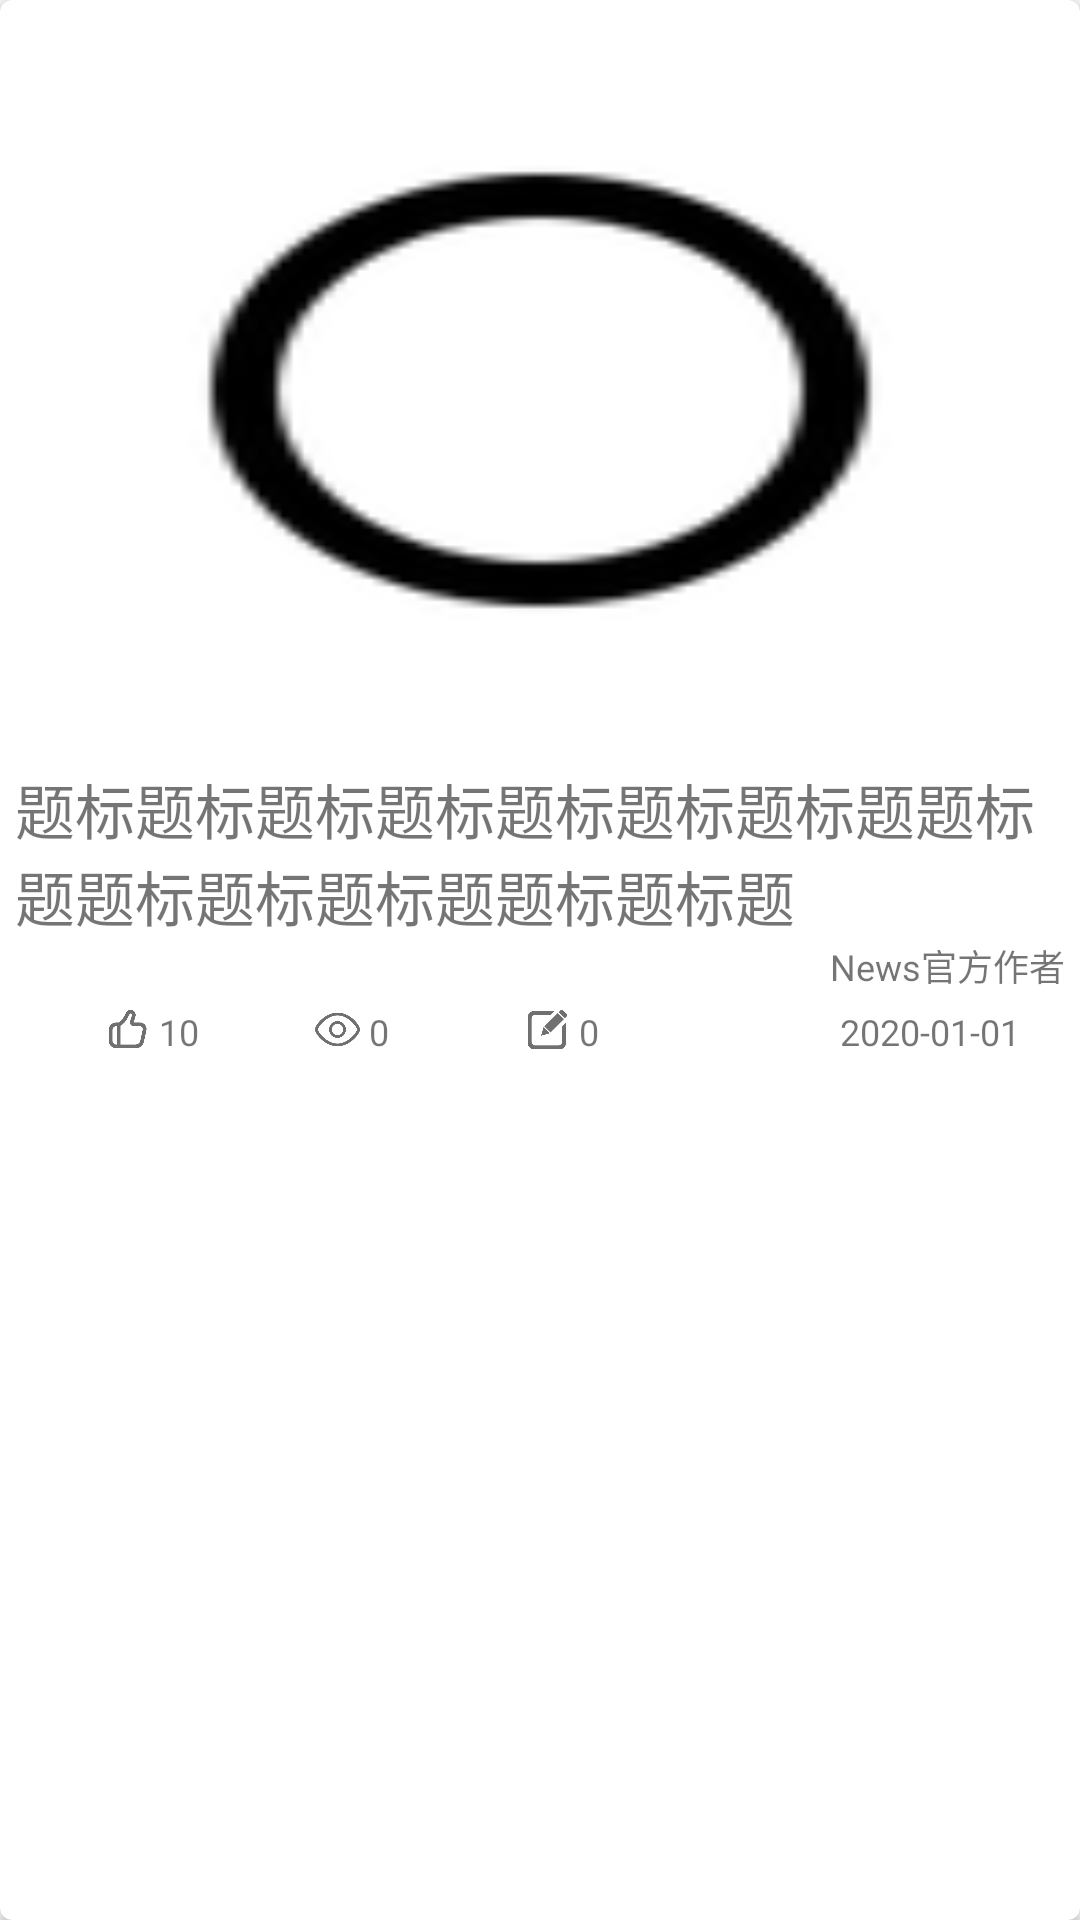

Icon bounding boxes for this 1080*1920 phone screenshot, format (x1, y1, x2, y2):
home like down: (109, 1010, 147, 1048)
home read: (315, 1013, 360, 1046)
home review: (528, 1010, 567, 1049)
